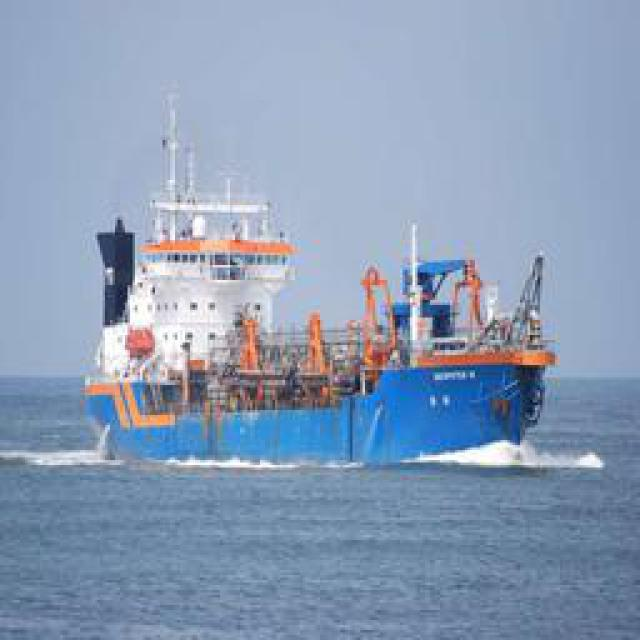Ship: (82, 105, 572, 478)
